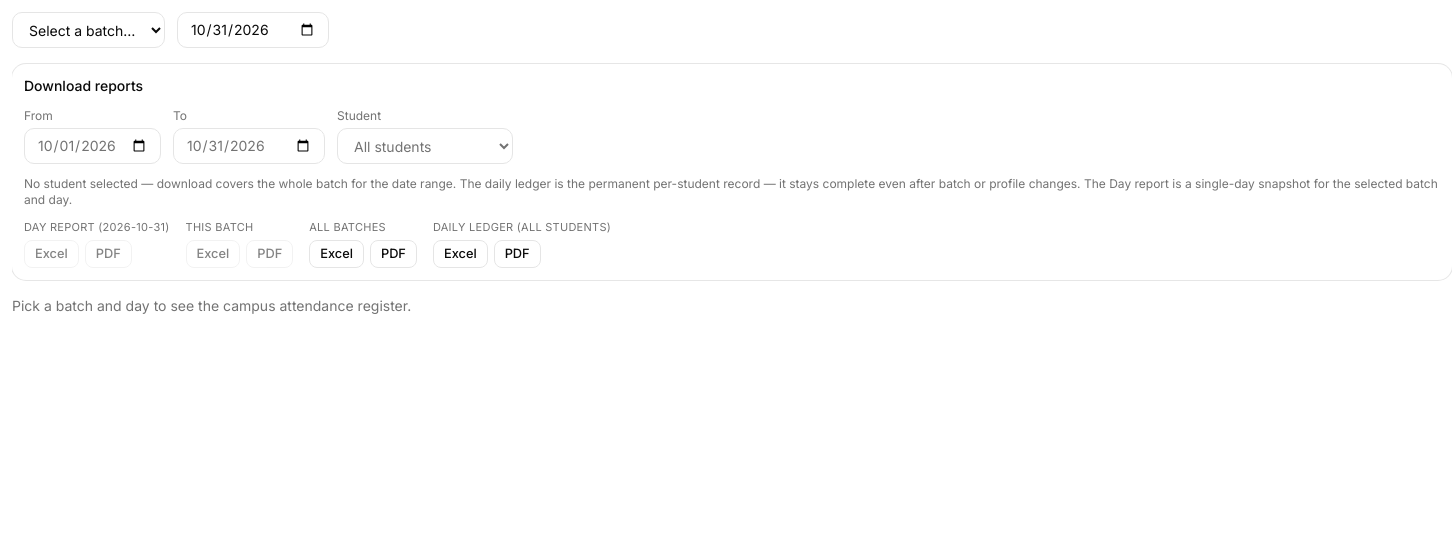
Test: DayRegister › renders a PRN column with the enrollment number
The width and height of the screenshot is (1452, 554).
Select "Batch A" in the dropdown named "Select batch" at (88, 30), box [12, 12, 165, 48]
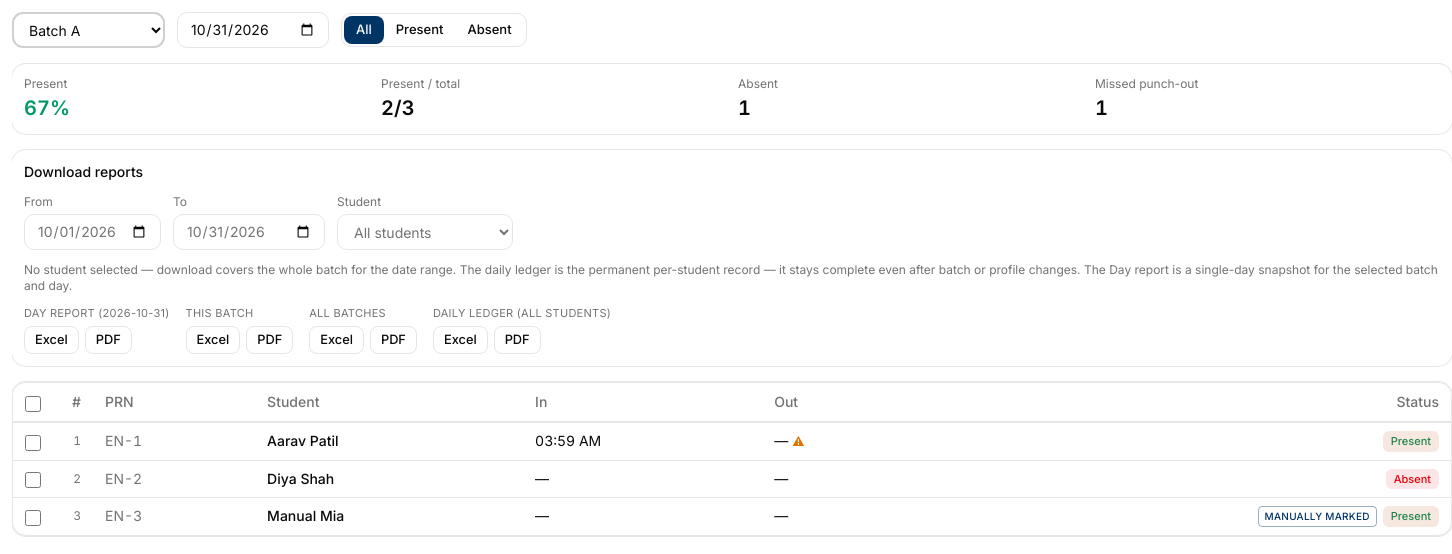
Now the column heading "PRN" is shown, box [93, 383, 255, 423]
Now the text "EN-1" is shown, box [93, 423, 255, 460]
